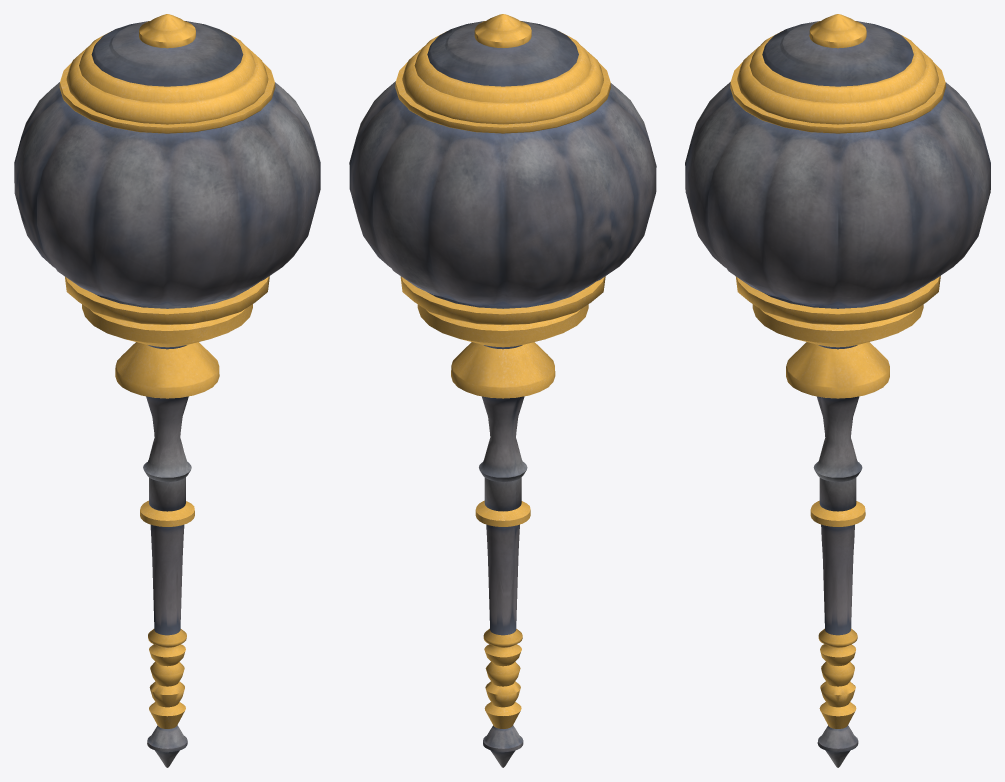
File: gada.glb
The picture shows the model from 3 angles, left to right: view 1: azimuth 30°, elevation 25°; view 2: azimuth 150°, elevation 25°; view 3: azimuth 270°, elevation 25°; orthographic projection.
Visible parts, largest first — view 1: Spear_LOD0; view 2: Spear_LOD0; view 3: Spear_LOD0.
Part boxes in pixels (box(x1,y1,x2,y2)): Spear_LOD0: box(14, 14, 320, 767); Spear_LOD0: box(349, 14, 656, 767); Spear_LOD0: box(685, 14, 990, 767).
Size of the model in its own units: 0.4957 by 1.34 by 0.4937.
1 material, 1 textured.
